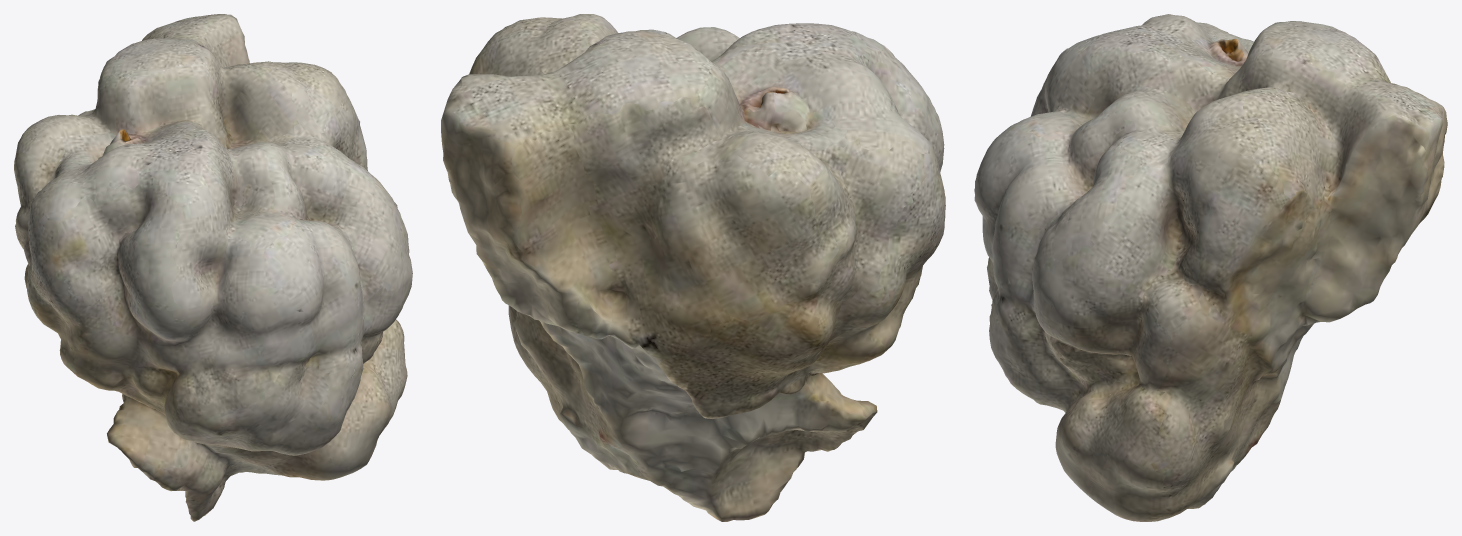
Rendered from porites_haddoni.glb.
3 views of the same model, side by side, from view 1: azimuth 30°, elevation 25°; view 2: azimuth 150°, elevation 25°; view 3: azimuth 270°, elevation 25° (orthographic). The views are drawn at different scales.
Parts seen in each view (by area): view 1: mesh_0; view 2: mesh_0; view 3: mesh_0.
Part boxes in pixels (x1,y1,x2,y2): mesh_0: (14,14,412,521); mesh_0: (441,14,945,521); mesh_0: (974,14,1447,521).
Bounding box in the file's own units: 0.0845 × 0.0963 × 0.0893.
Materials: 1 (1 with a texture image).
